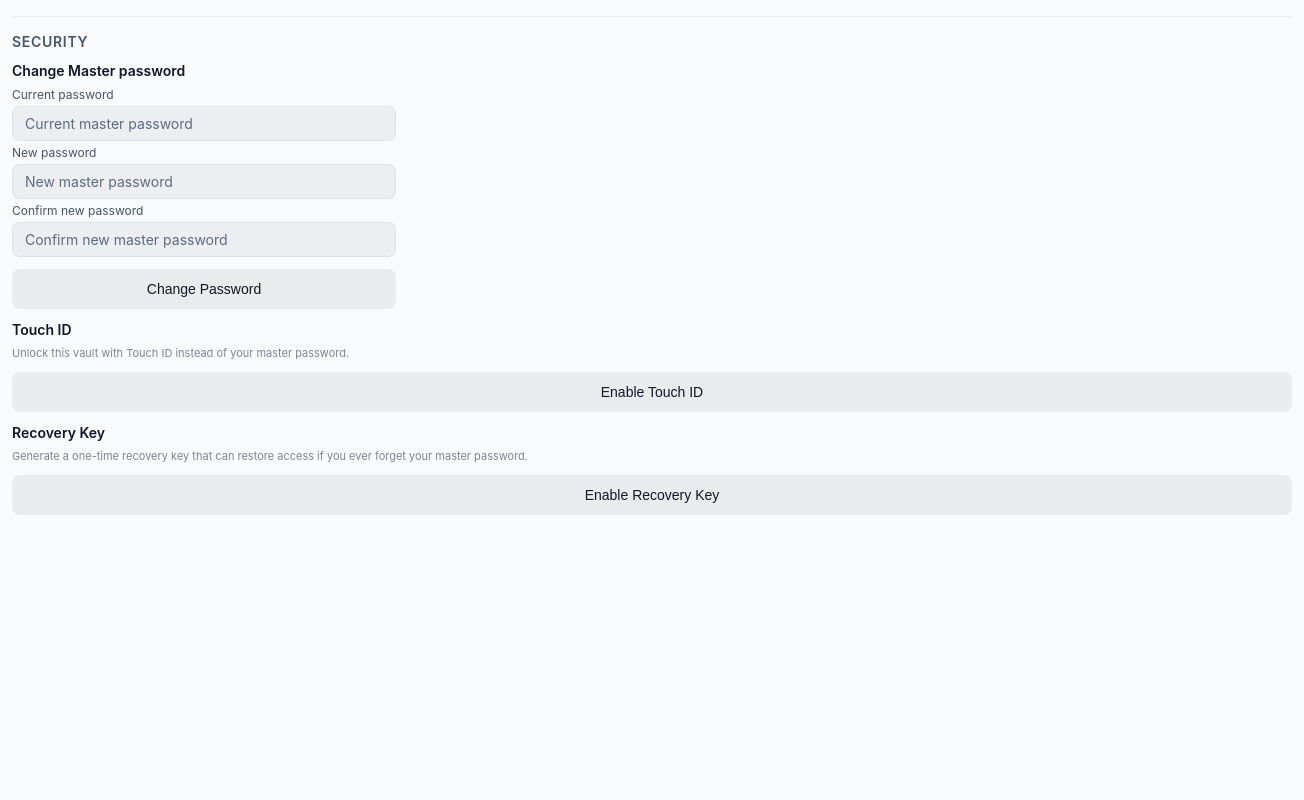
Test: SecuritySettingsSection Touch ID › enables Touch ID with the master password and refreshes status
Click the button "Enable Touch ID": (652, 392) [12,372,1292,412]
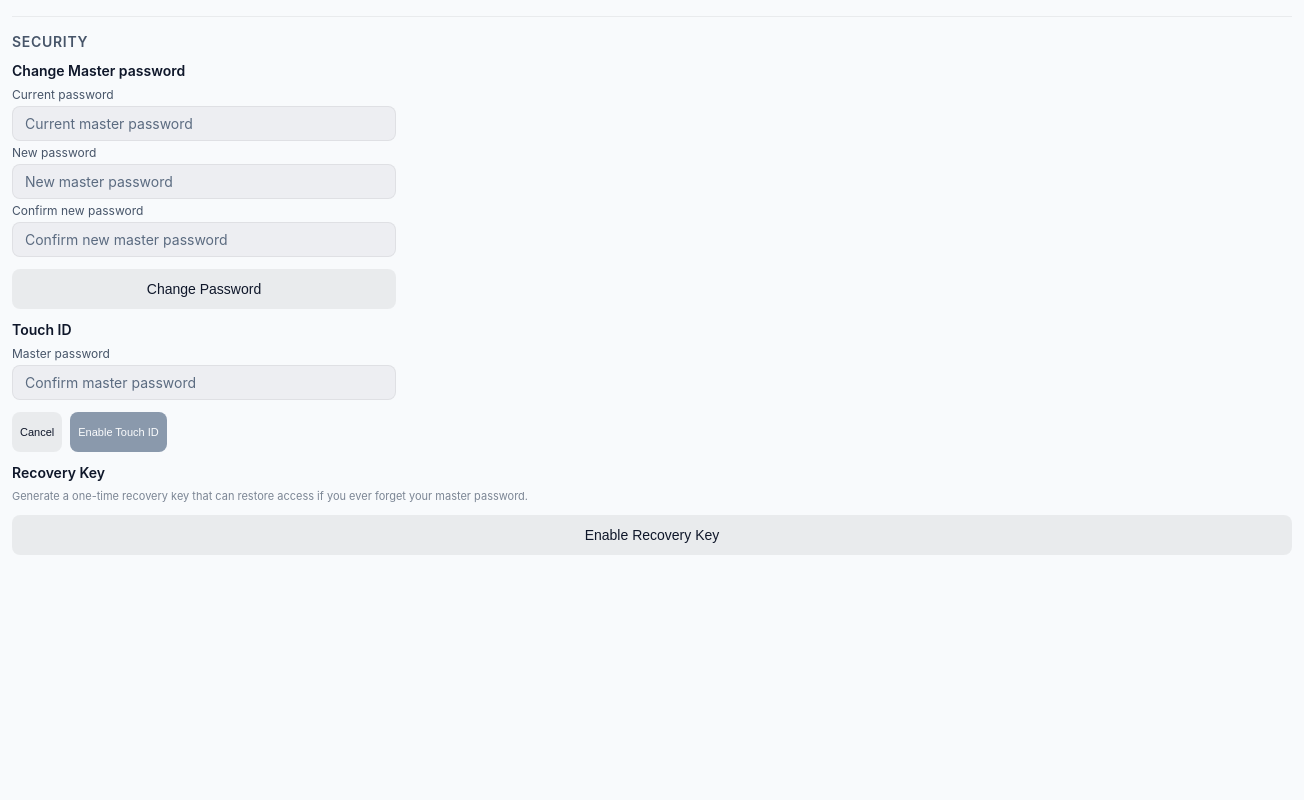
In the password field labelled "Master password": (204, 382) [12,365,396,400], type "master-password"
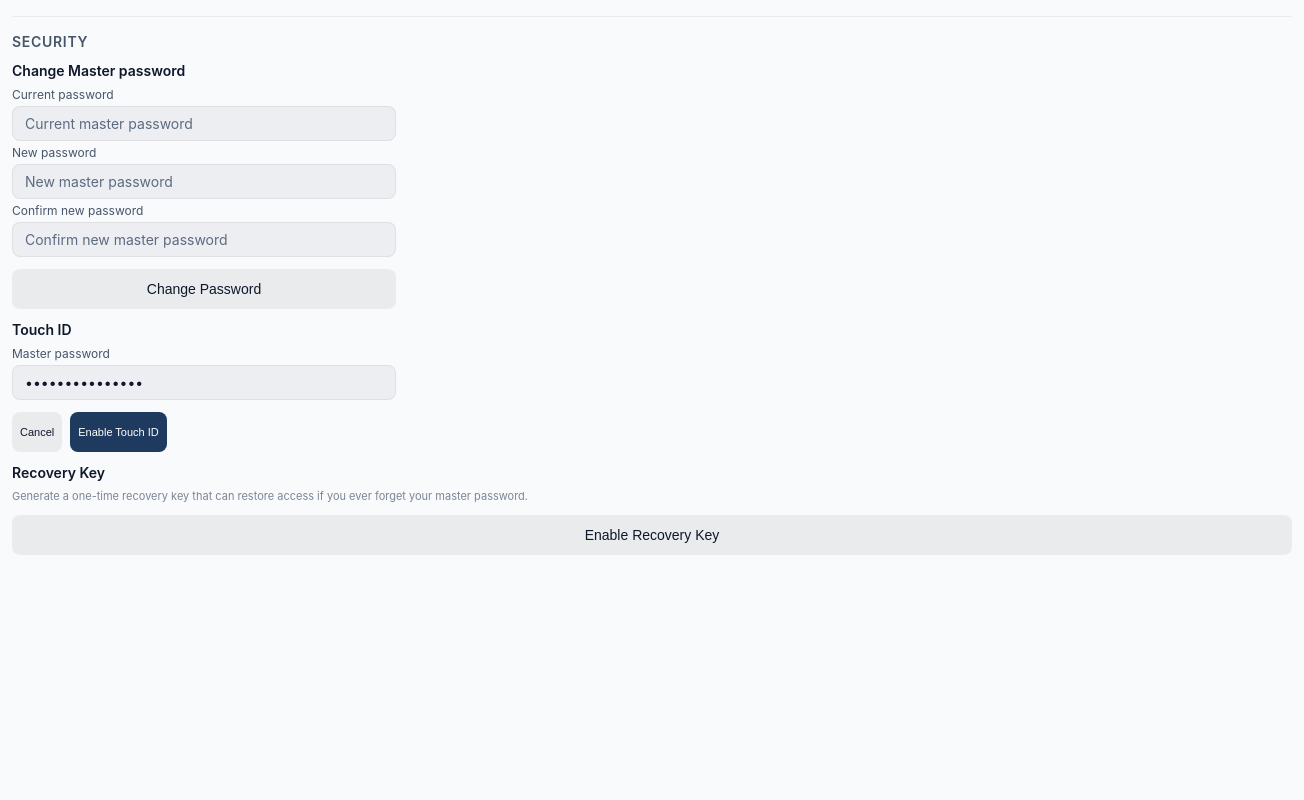
Click the button "Enable Touch ID": (119, 432) [70,412,167,452]
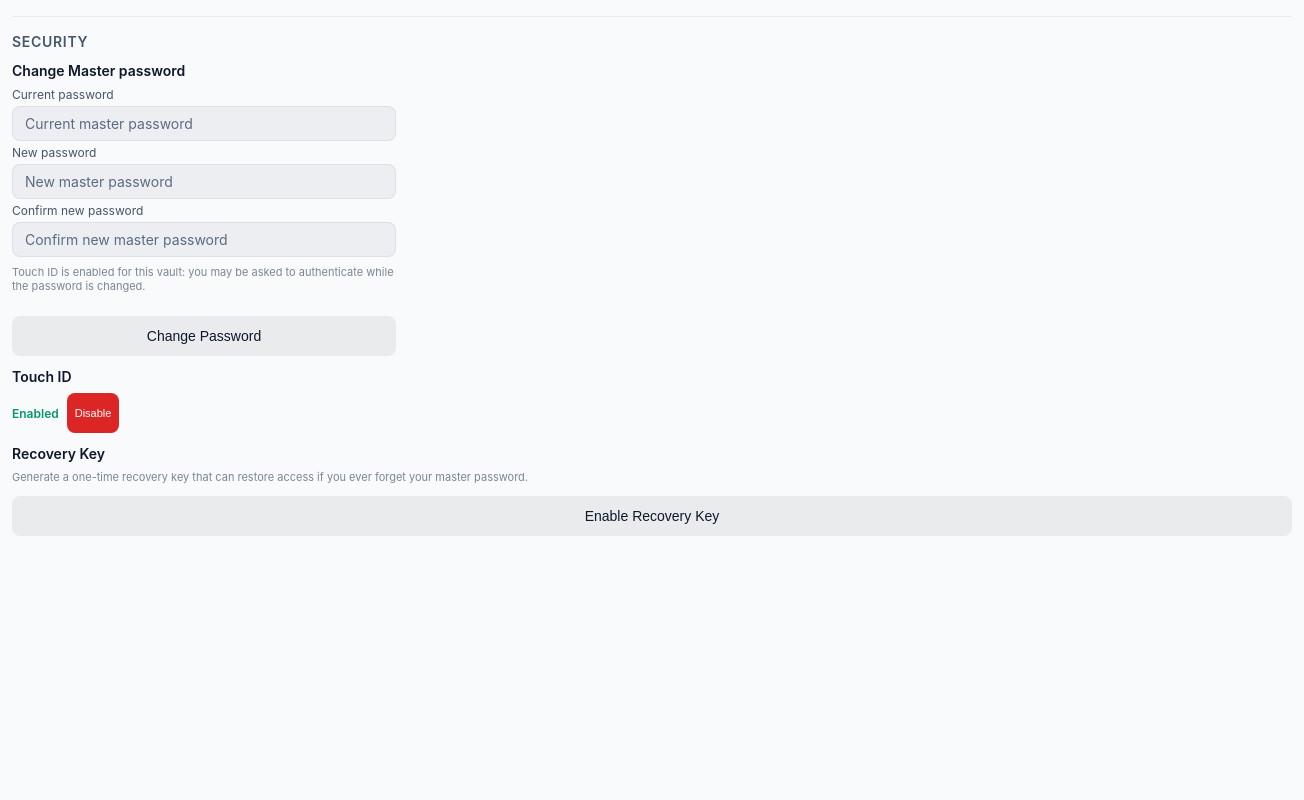
Expected: the text "Enabled" is shown, [12,406,59,420]
Expected: the button "Enable Touch ID" is gone
